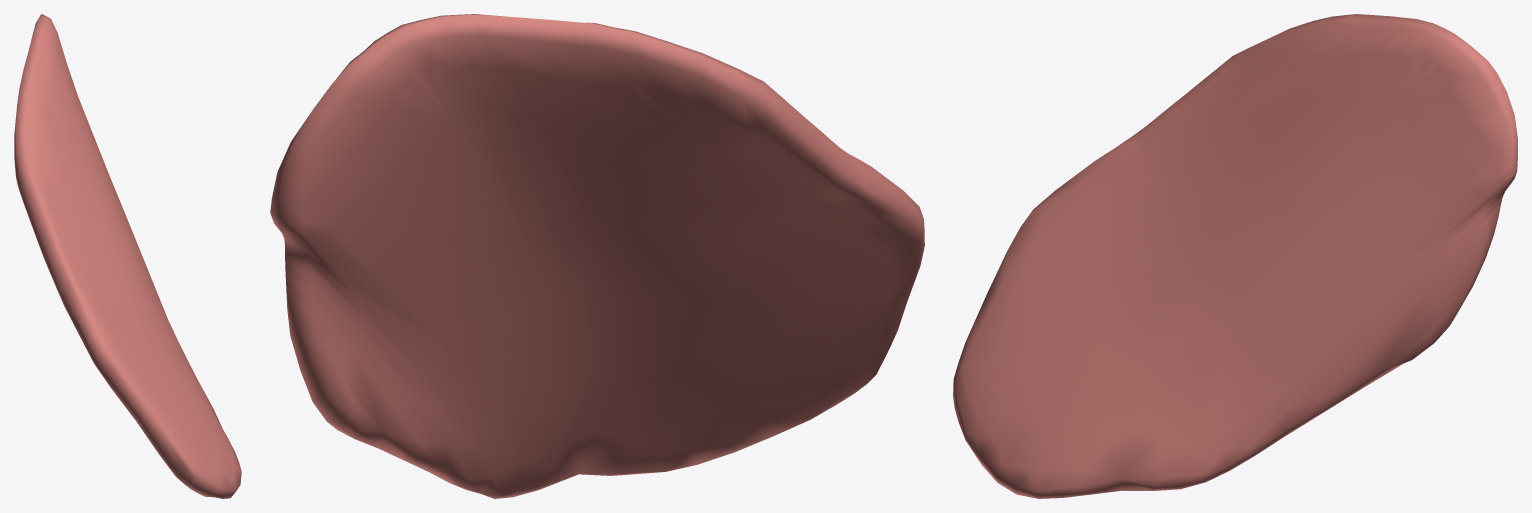
3 renders of one model, left to right at view 1: azimuth 30°, elevation 25°; view 2: azimuth 150°, elevation 25°; view 3: azimuth 270°, elevation 25°, orthographic. The views are drawn at different scales.
Visible parts, largest first — view 1: ZA_423329016feee56e; view 2: ZA_423329016feee56e; view 3: ZA_423329016feee56e.
Boxes of the visible parts, x1,y1,x2,y2 form: ZA_423329016feee56e: (14,14,241,498); ZA_423329016feee56e: (270,14,924,498); ZA_423329016feee56e: (953,14,1517,498).
Bounding box in the file's own units: 0.00451 × 0.00885 × 0.01.
